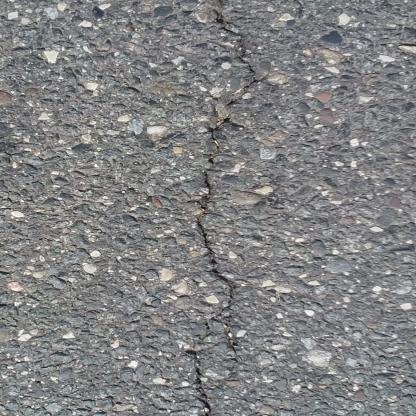Cracks: (172, 0, 300, 416)
